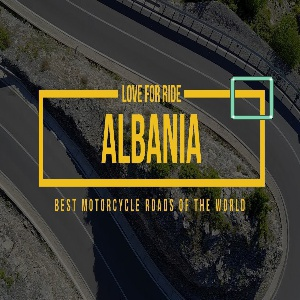square: (228, 73, 276, 122)
